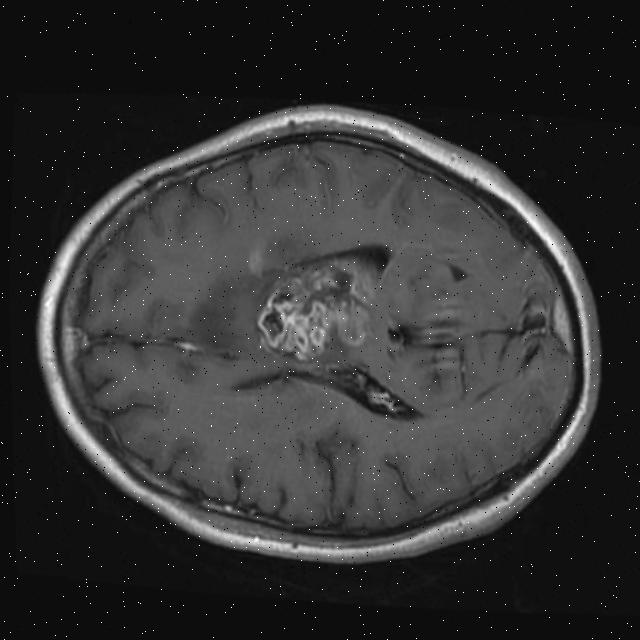Glioma: (250, 250, 371, 363)
